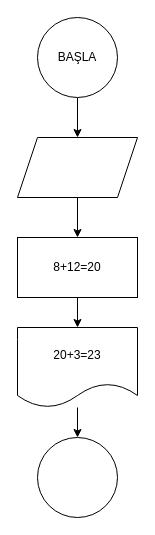
This 155x535 diagram has some shape labels left out. The box of each missing label's shape, as (x1, y1, x2, y2) in pixels:
6+9+x=18 x=3: (16, 136, 138, 198)
DUR: (36, 436, 118, 518)
